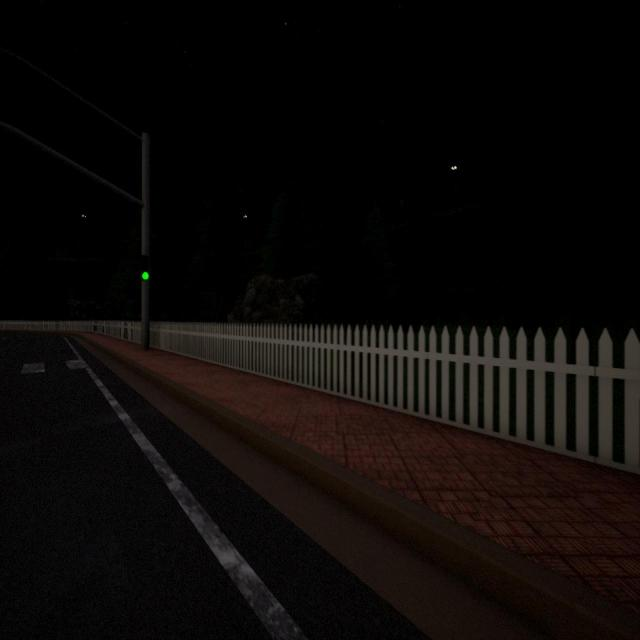traffic_light: (141, 253, 149, 280)
